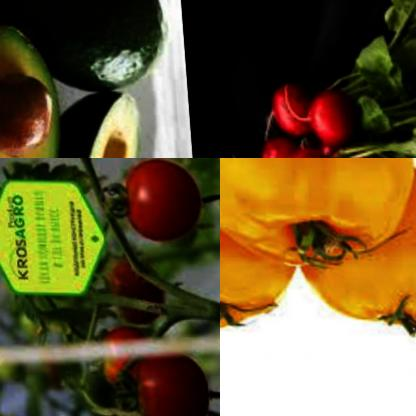avocado: (0, 0, 170, 86), (0, 4, 69, 158), (47, 69, 151, 158)
rediska: (296, 86, 368, 151), (259, 77, 309, 142), (259, 127, 310, 158), (271, 138, 333, 158)
tomato: (289, 158, 416, 330), (220, 158, 416, 269), (220, 158, 298, 333), (115, 158, 210, 243), (114, 347, 214, 416), (75, 322, 142, 394), (94, 256, 159, 316)
